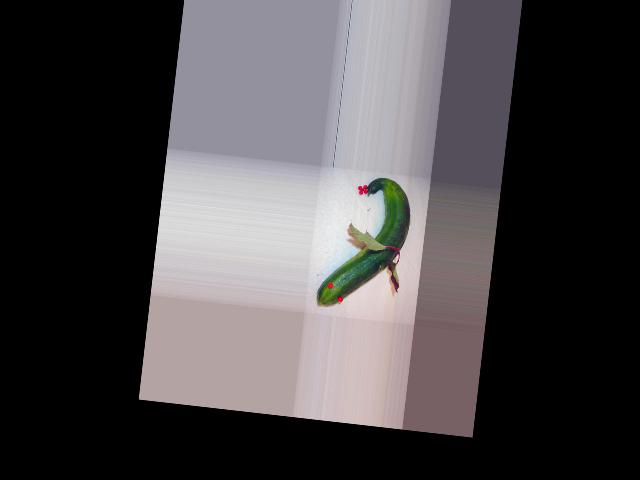cucumber: (315, 171, 414, 313)
